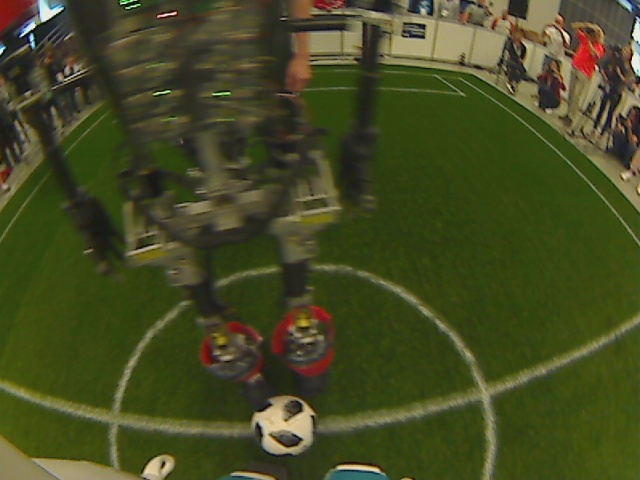ball: (247, 392, 321, 461)
